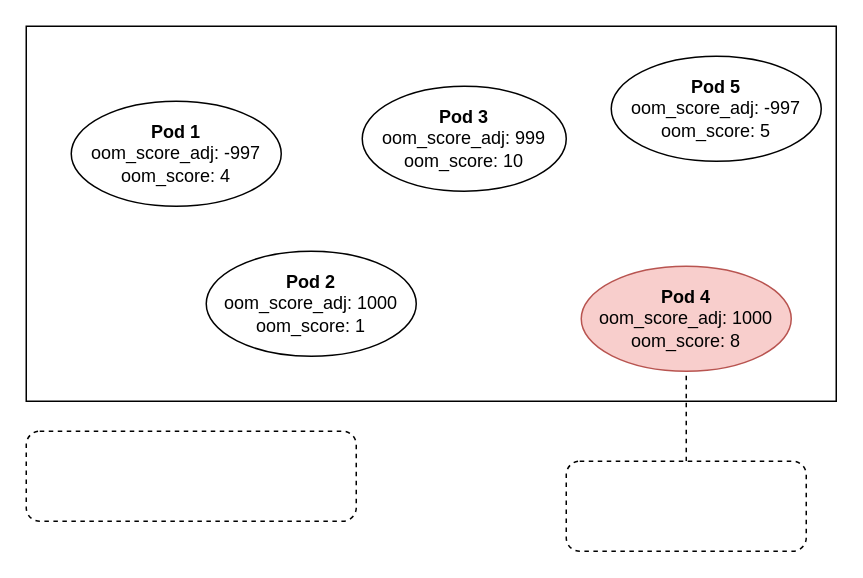
The diagram is 863 pixels wide and 578 high, and some of its shapes have lost their labels. The centre of each missing label's shape, as x and y in pixels:
"oom_score_adj 由 QoS 决定 oom_score 是 Pod 的内存占用百分比" belongs at (x=190, y=475).
"很明显，Pod 4 优先被删除" belongs at (x=685, y=505).
